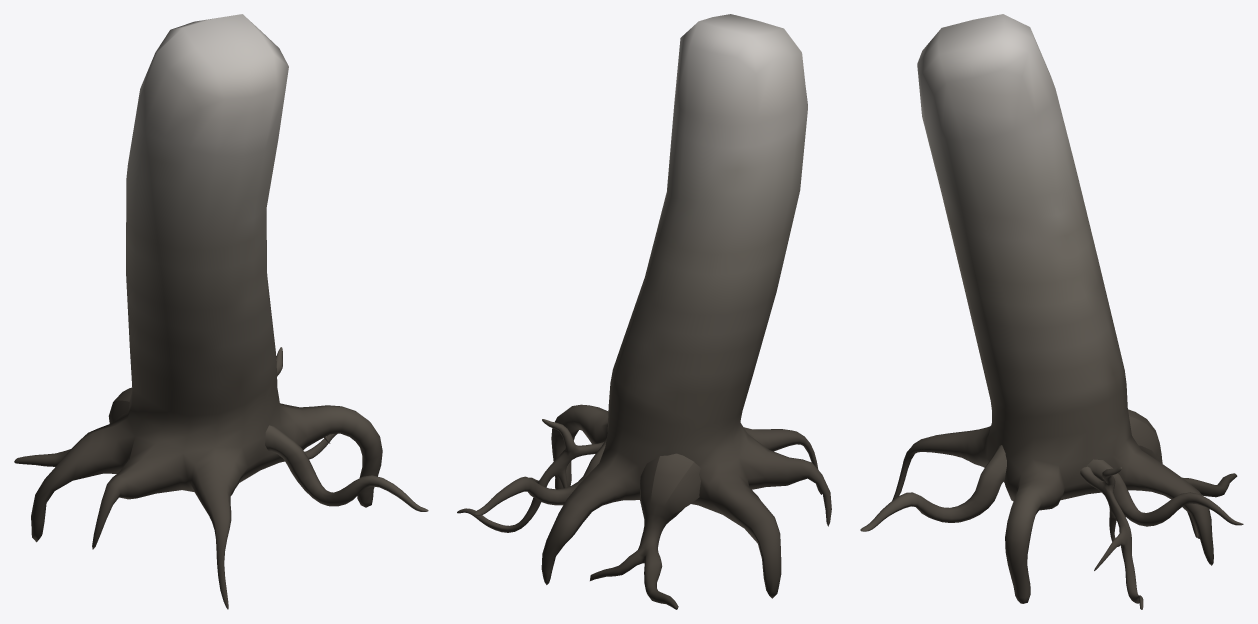
File: M_Trees_SizeXL_01.fbx
3 renders of one model, left to right at view 1: azimuth 30°, elevation 25°; view 2: azimuth 150°, elevation 25°; view 3: azimuth 270°, elevation 25°, orthographic. The views are drawn at different scales.
Visible parts, largest first — view 1: M_Root_TallTree; view 2: M_Root_TallTree; view 3: M_Root_TallTree.
Boxes of the visible parts, box(x1,y1,x2,y2) form: M_Root_TallTree: box(14, 14, 428, 609); M_Root_TallTree: box(457, 14, 831, 609); M_Root_TallTree: box(860, 14, 1243, 609).
Size of the model in its own units: 2527 by 3923 by 2693.
